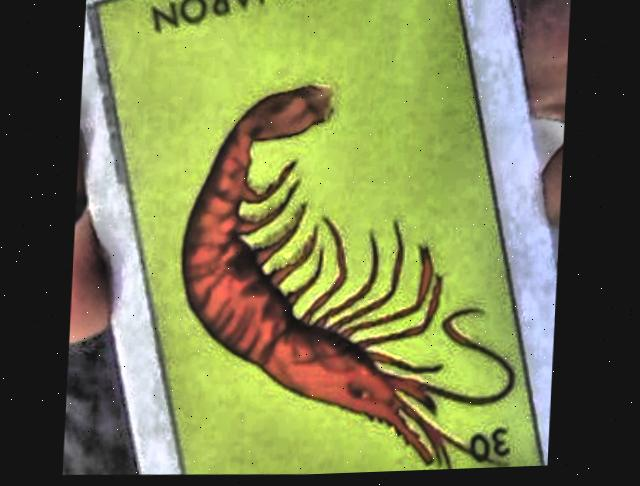El Camaron: (92, 0, 547, 477)
